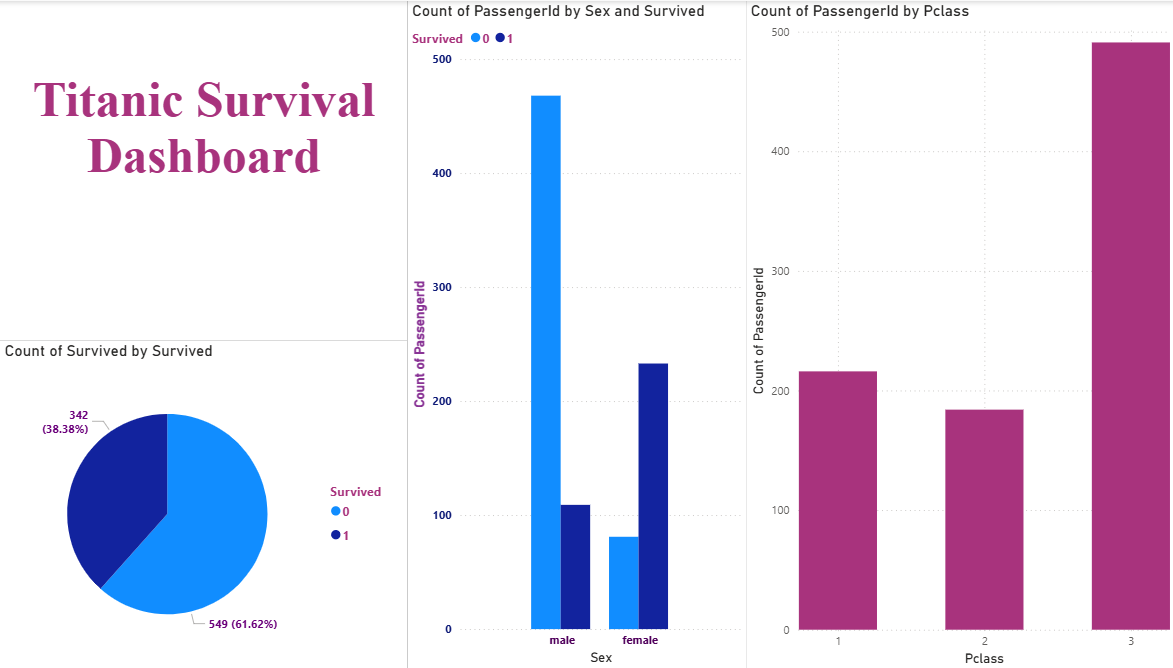

This screenshot's page, from the dashboard's own definition file:
{"tool":"powerbi","page":{"name":"Page 1","canvas":[1280,720],"ordinal":0},"visuals":[{"type":"pieChart","fields":{"Category":["titanic.Survived"],"Y":["CountNonNull(titanic.Survived)"]},"box":[365,0,437.7,366.4],"z":0},{"type":"clusteredBarChart","fields":{"Category":["titanic.Sex"],"Y":["CountNonNull(titanic.Survived)"]},"box":[0,366.4,802.7,354],"z":1000},{"type":"columnChart","fields":{"Category":["titanic.Pclass"],"Y":["CountNonNull(titanic.PassengerId)"]},"box":[802.7,0,461.1,720.4],"z":2000},{"type":"textbox","box":[0,0,365,366.4],"z":3000}]}

Visuals, with their boxes in screenshot pixels (x1, y1, x2, y2), scaled from the page's 1280x720 canvas onto the 1173x668 screenshot:
pieChart - titanic.Survived x CountNonNull(titanic.Survived): 334/0/736/340
clusteredBarChart - titanic.Sex x CountNonNull(titanic.Survived): 0/340/736/667
columnChart - titanic.Pclass x CountNonNull(titanic.PassengerId): 736/0/1158/667
textbox: 0/0/334/340
